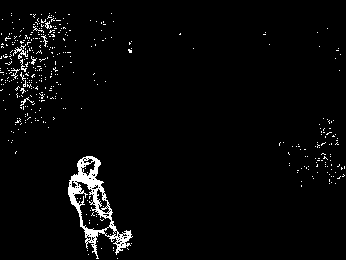person: (67, 154, 135, 253)
